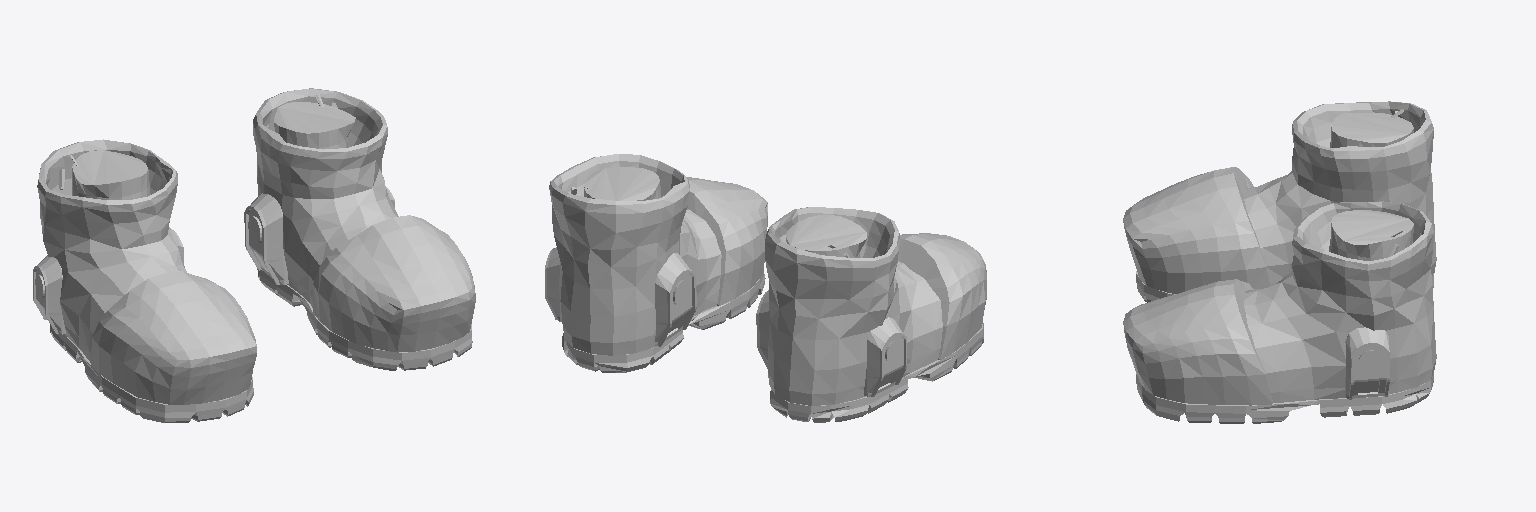
File: shoes.OBJ
3 views of the same model, side by side, from view 1: azimuth 30°, elevation 25°; view 2: azimuth 150°, elevation 25°; view 3: azimuth 270°, elevation 25° (orthographic).
Parts seen in each view (by area): view 1: Group2, Group3789, Group8; view 2: Group2, Group3789, Group8; view 3: Group2, Group3789, Group8.
Boxes of the visible parts, x1=… form: Group2: x1=33, y1=88, x2=475, y2=422; Group3789: x1=72, y1=95, x2=355, y2=184; Group8: x1=72, y1=122, x2=354, y2=199; Group2: x1=545, y1=154, x2=986, y2=422; Group3789: x1=572, y1=167, x2=866, y2=255; Group8: x1=584, y1=182, x2=866, y2=257; Group2: x1=1123, y1=101, x2=1436, y2=423; Group3789: x1=1331, y1=110, x2=1413, y2=245; Group8: x1=1329, y1=127, x2=1413, y2=260.
Bounding box in the file's own units: 42.11 × 19.82 × 32.67.